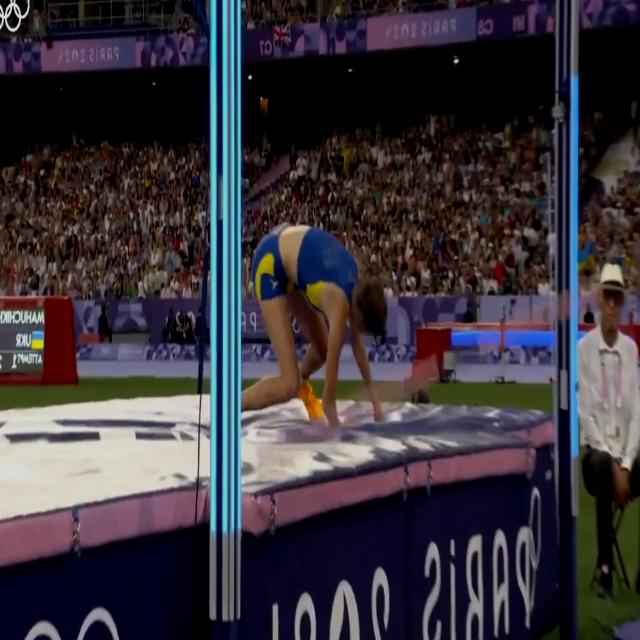land: (240, 221, 388, 426)
